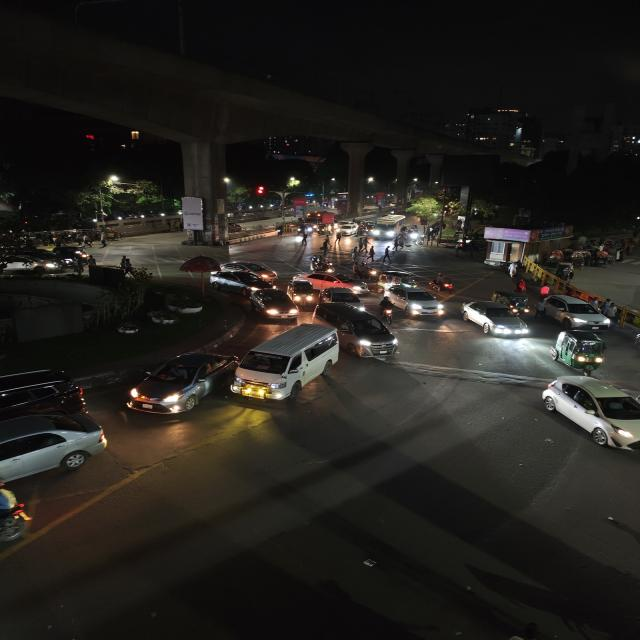bus: (372, 217, 401, 240)
car: (230, 324, 341, 404), (0, 409, 111, 487), (537, 374, 640, 456), (121, 350, 236, 420), (313, 303, 402, 360), (0, 367, 87, 421), (460, 300, 531, 340), (536, 293, 612, 329), (383, 285, 448, 321), (208, 268, 278, 294), (245, 288, 299, 321), (208, 259, 280, 282), (303, 270, 368, 294), (320, 286, 369, 304), (338, 224, 353, 236)
cng: (551, 329, 611, 372), (491, 290, 534, 314), (288, 279, 320, 303), (377, 271, 419, 289)
motorcycle: (376, 296, 399, 322), (432, 271, 458, 293), (306, 255, 329, 272), (538, 281, 554, 297), (276, 224, 284, 239)
pedestrian: (506, 260, 519, 279), (320, 240, 330, 256), (383, 245, 392, 262), (368, 245, 377, 262), (333, 229, 343, 244), (299, 231, 307, 246), (362, 236, 369, 251), (351, 246, 355, 261), (359, 238, 363, 250)
truck: (306, 212, 334, 226)
